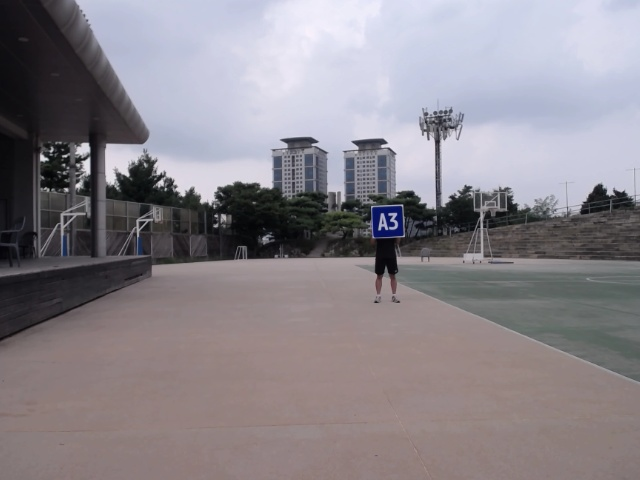delivery_a3: (371, 205, 405, 238)
